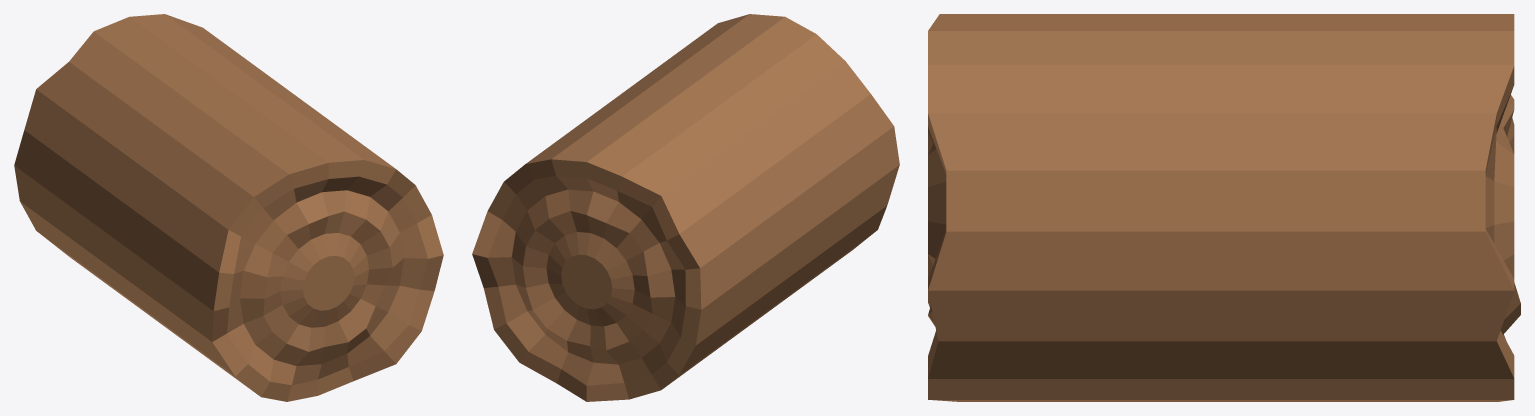
Rendered from Bandage.fbx.
3 renders of one model, left to right at view 1: azimuth 30°, elevation 25°; view 2: azimuth 150°, elevation 25°; view 3: azimuth 270°, elevation 25°, orthographic. The views are drawn at different scales.
Parts seen in each view (by area): view 1: Cylinder; view 2: Cylinder; view 3: Cylinder.
Part boxes in pixels (x1,y1,x2,y2): Cylinder: (14, 14, 443, 401); Cylinder: (472, 14, 899, 401); Cylinder: (928, 14, 1520, 401).
Size of the model in its own units: 200 by 200 by 303.
